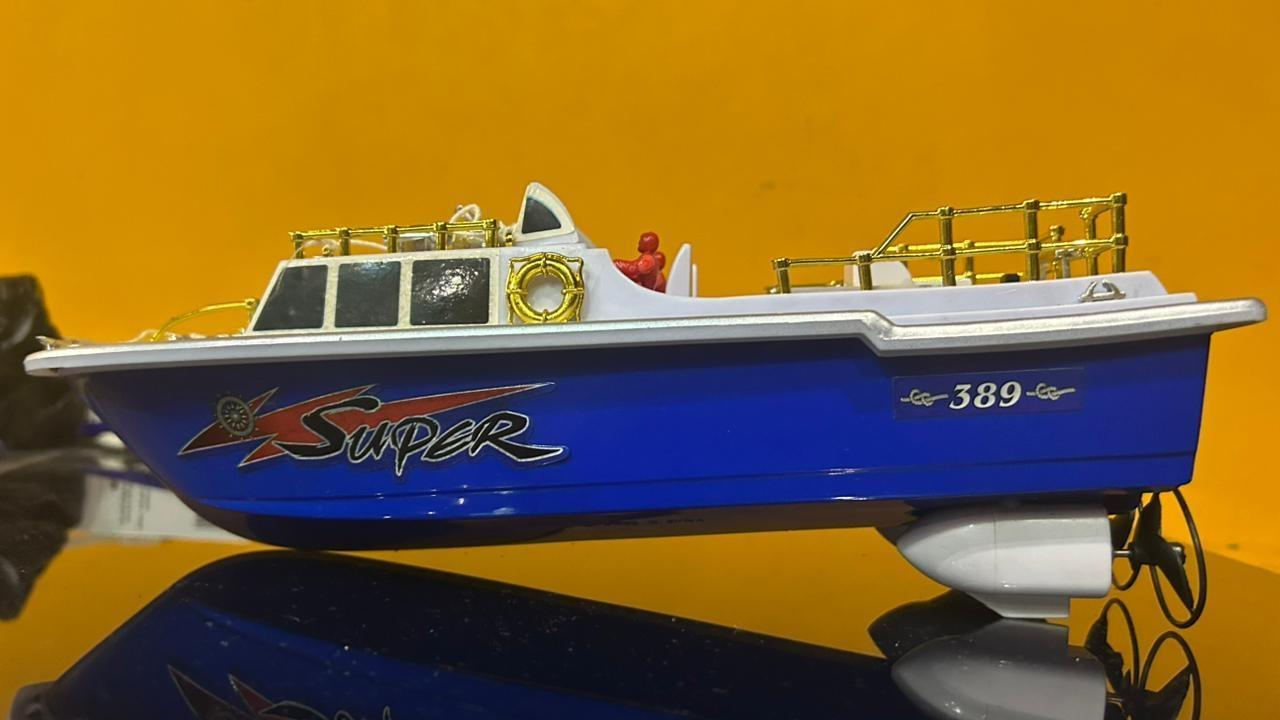Boat: (16, 176, 1273, 616)
